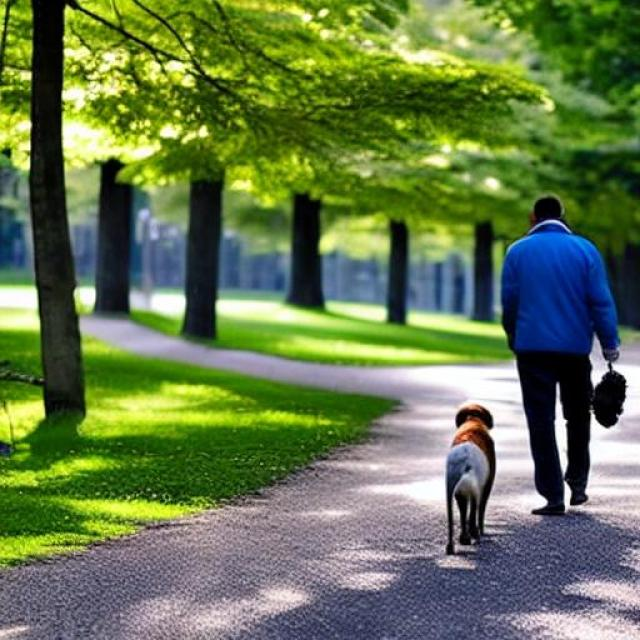Unleashed_Dog: (445, 352, 594, 552)
